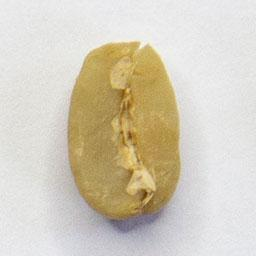defect: (66, 39, 184, 225)
